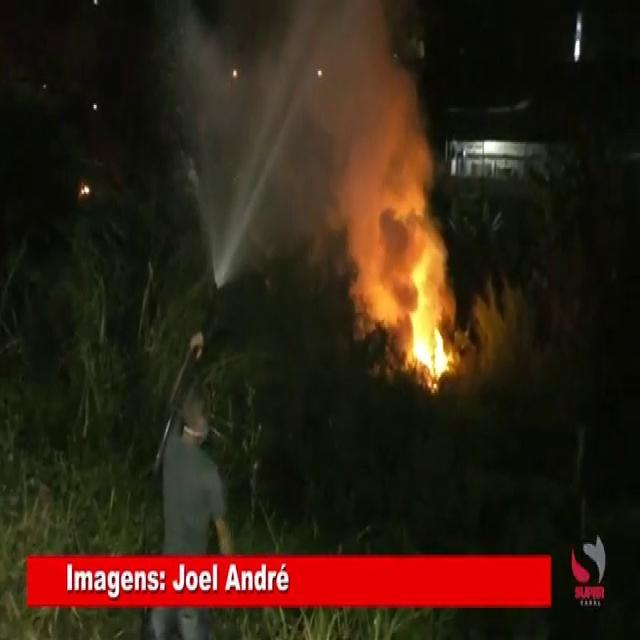Fire: (410, 235, 453, 377), (437, 326, 450, 384)
Smoke: (305, 1, 393, 126)
